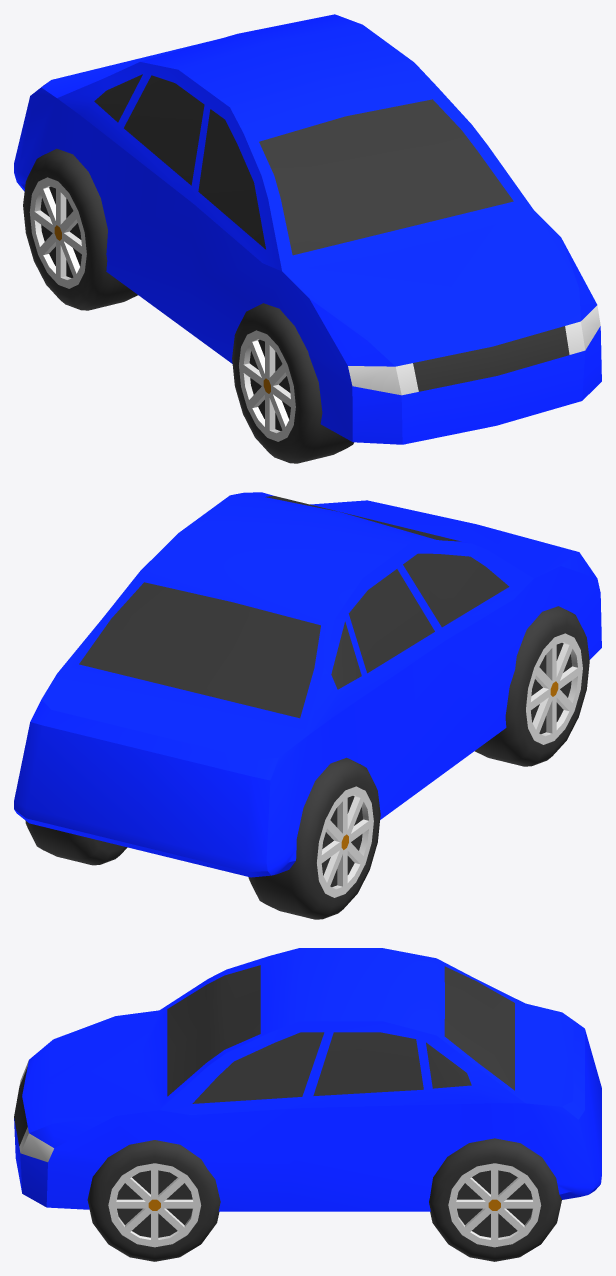
Rendered from Car_Simple.fbx.
3 renders of one model, top to bottom at view 1: azimuth 30°, elevation 25°; view 2: azimuth 150°, elevation 25°; view 3: azimuth 270°, elevation 25°, orthographic. The views are drawn at different scales.
Visible parts, largest first — view 1: Car_Taxi.001, Wheel.005; view 2: Car_Taxi.001, Wheel.005; view 3: Car_Taxi.001, Wheel.005.
Boxes of the visible parts, left/top/right/bottom form: Car_Taxi.001: left=14, top=14, right=601, bottom=444; Wheel.005: left=23, top=148, right=353, bottom=463; Car_Taxi.001: left=14, top=492, right=601, bottom=877; Wheel.005: left=25, top=606, right=589, bottom=919; Car_Taxi.001: left=14, top=948, right=601, bottom=1211; Wheel.005: left=87, top=1138, right=561, bottom=1261.
Size of the model in its own units: 250 by 545 by 233.
